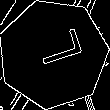L_W: (24, 32, 82, 76)
